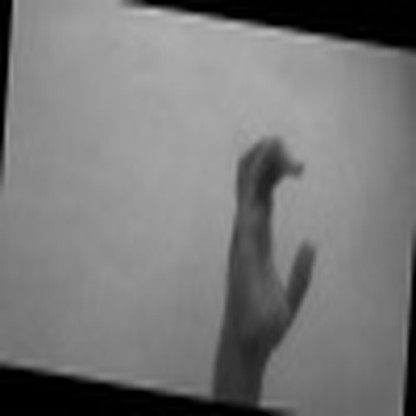c: (220, 126, 323, 352)
